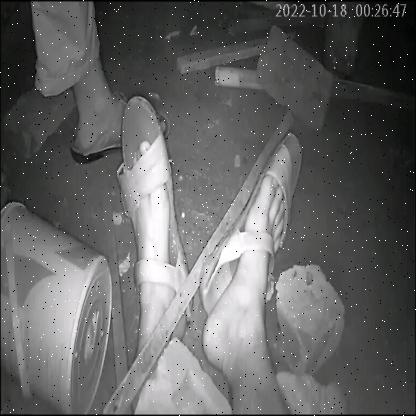leg: (200, 126, 314, 416), (112, 90, 203, 348)
